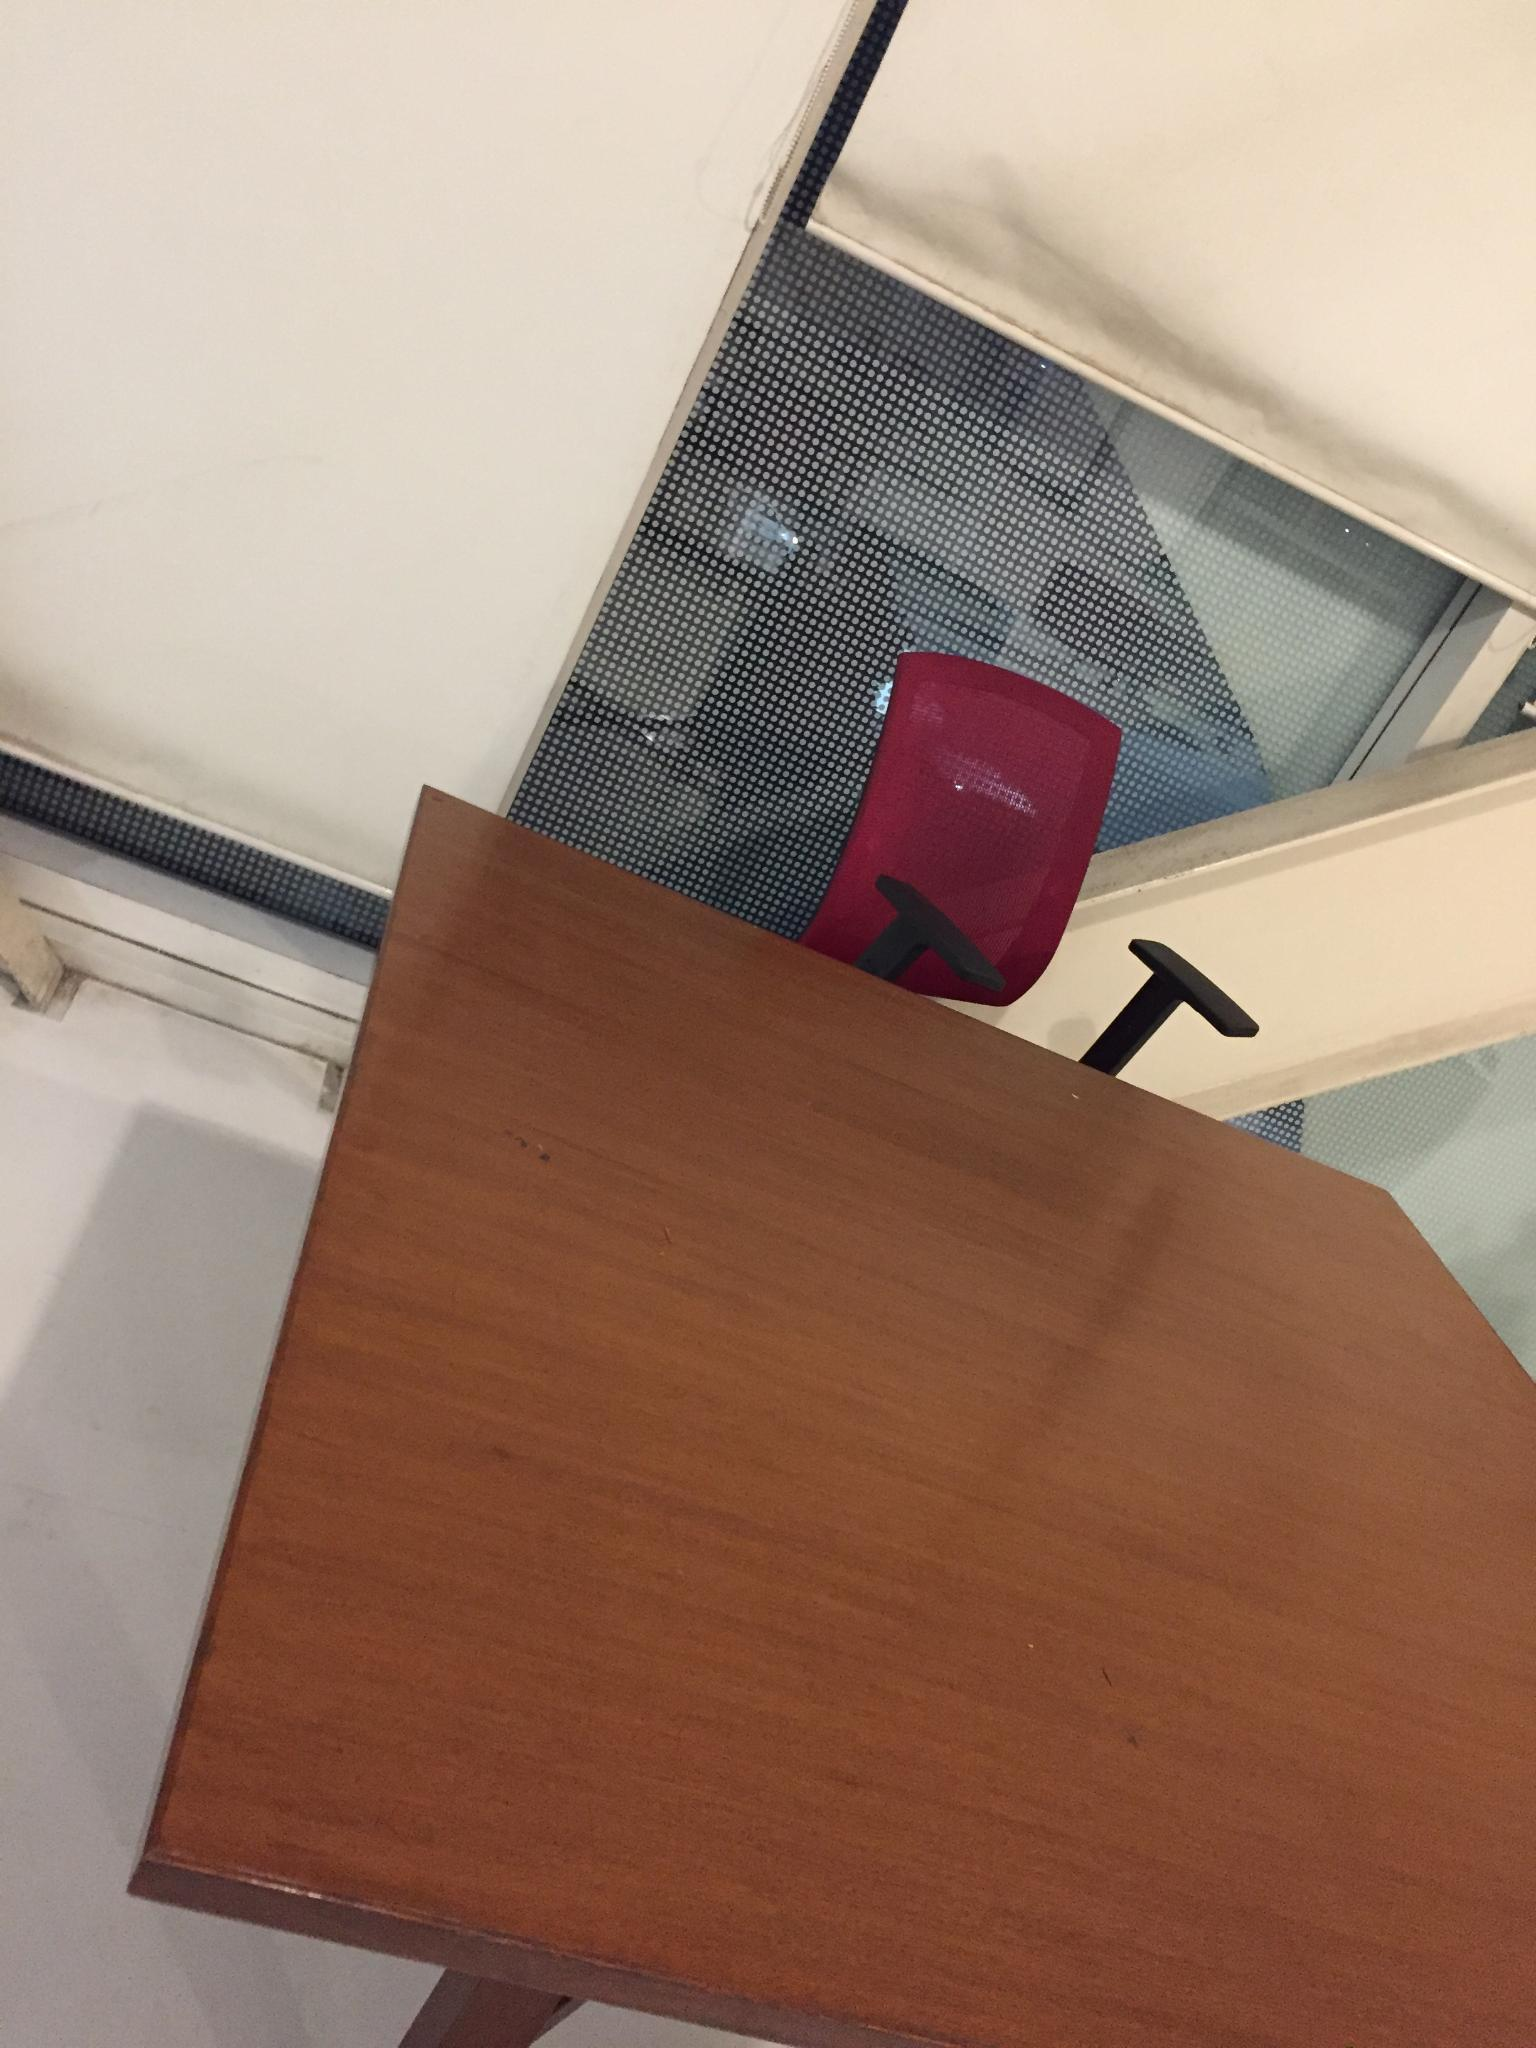chair: (726, 668, 1268, 1213)
